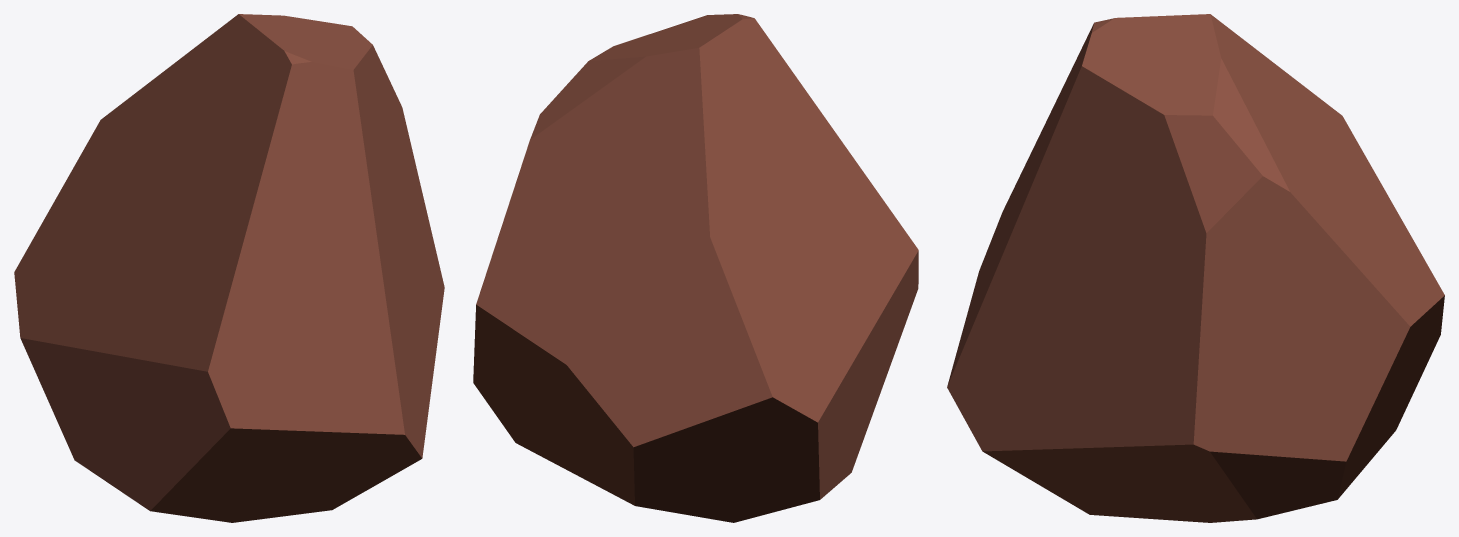
The model's file is piedra2.fbx.
The picture shows the model from 3 angles, left to right: view 1: azimuth 30°, elevation 25°; view 2: azimuth 150°, elevation 25°; view 3: azimuth 270°, elevation 25°; orthographic projection. The views are drawn at different scales.
Visible parts, largest first — view 1: piedra2; view 2: piedra2; view 3: piedra2.
Boxes of the visible parts, x1=… form: piedra2: x1=14, y1=14, x2=444, y2=522; piedra2: x1=473, y1=14, x2=918, y2=522; piedra2: x1=947, y1=14, x2=1444, y2=522.
Size of the model in its own units: 156 by 191 by 175.
